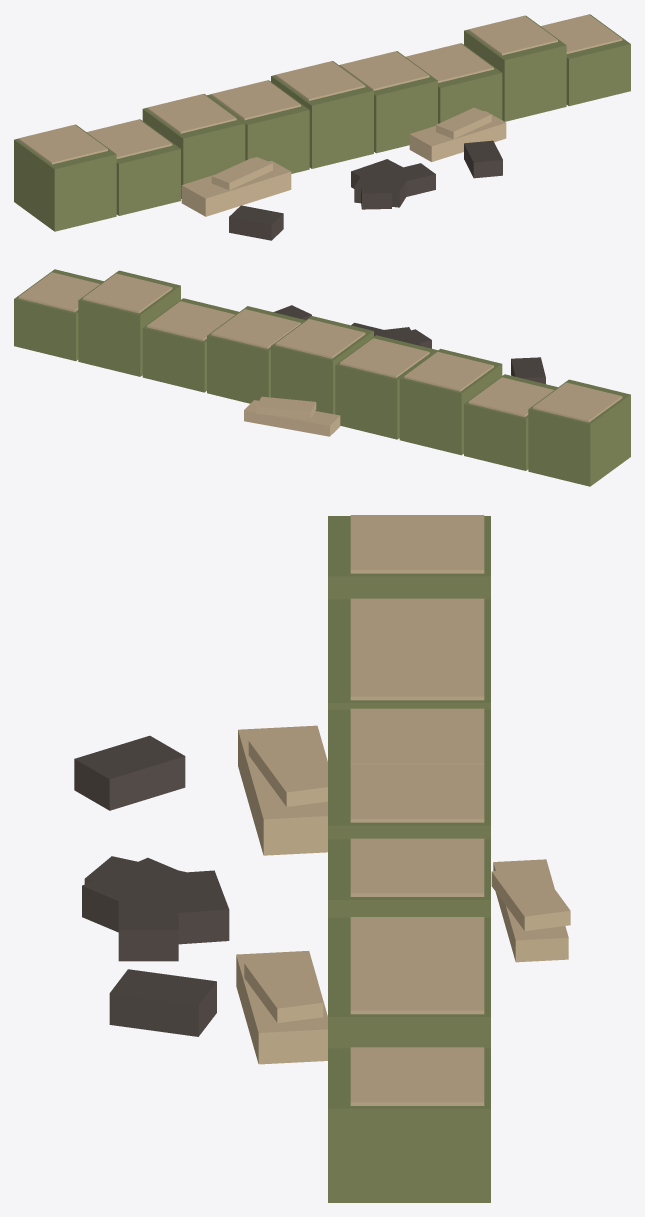
File: SM_MuroHesco_v2_Escalonado_e2_MuyDanado_LOD1.fbx
3 views of the same model, one above another, from view 1: azimuth 30°, elevation 25°; view 2: azimuth 150°, elevation 25°; view 3: azimuth 270°, elevation 25° (orthographic). The views are drawn at different scales.
Parts seen in each view (by area): view 1: SM_bloques.muro_hesco_estados_v10_LOD1; view 2: SM_bloques.muro_hesco_estados_v10_LOD1; view 3: SM_bloques.muro_hesco_estados_v10_LOD1.
Part boxes in pixels (x1=…): SM_bloques.muro_hesco_estados_v10_LOD1: x1=14, y1=14, x2=630, y2=240; SM_bloques.muro_hesco_estados_v10_LOD1: x1=14, y1=269, x2=630, y2=486; SM_bloques.muro_hesco_estados_v10_LOD1: x1=74, y1=515, x2=570, y2=1202.
Bounding box in the file's own units: 9.96 × 1.07 × 3.71.
